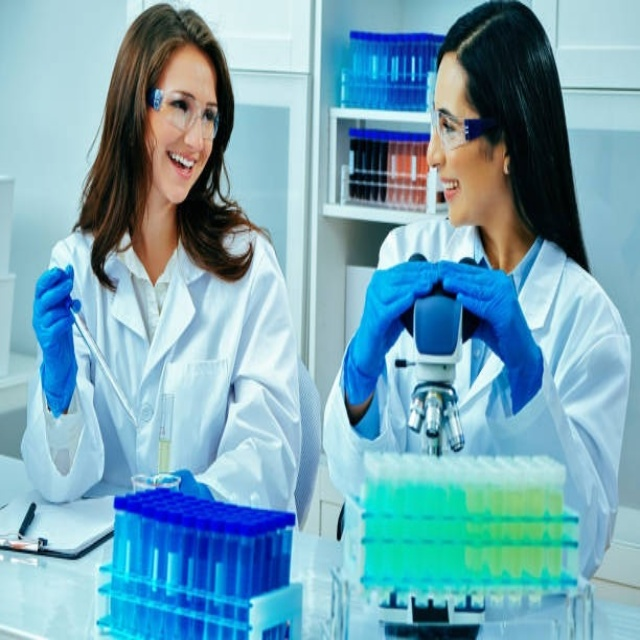Gafas: (148, 88, 220, 140), (429, 107, 500, 153)
Guantes: (434, 257, 546, 417), (343, 257, 450, 413), (32, 264, 80, 415), (167, 468, 214, 501)
Sin_mascara: (166, 149, 197, 177), (440, 178, 460, 201)
